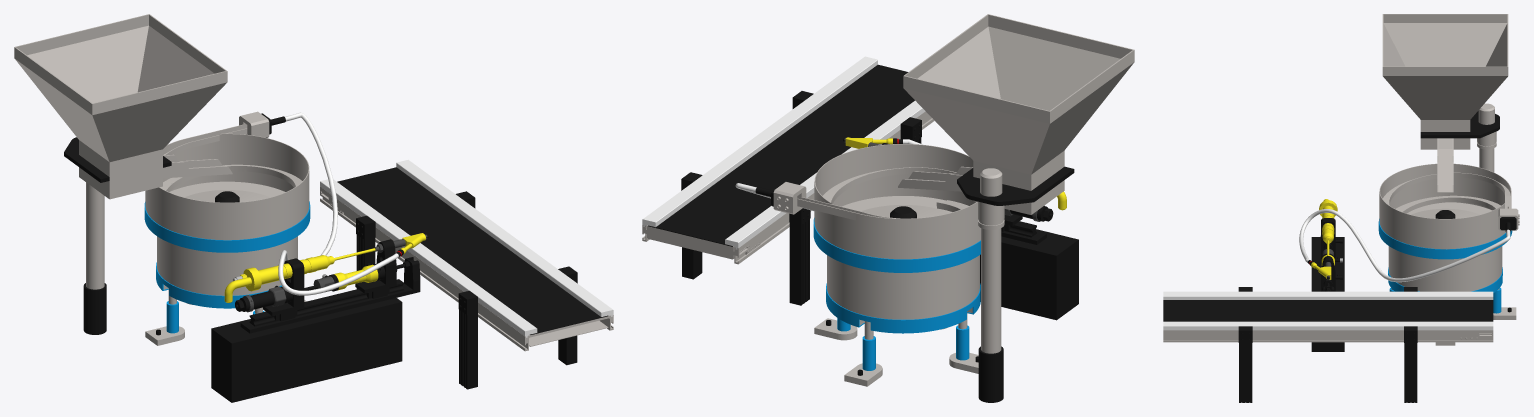
Rendered from Pin_Insertion_Station.glb.
3 views of the same model, side by side, from view 1: azimuth 30°, elevation 25°; view 2: azimuth 150°, elevation 25°; view 3: azimuth 270°, elevation 25° (orthographic). The views are drawn at different scales.
Parts seen in each view (by area): view 1: color-25[25], color, color-25[20], color-26[2], color-25[5], color-26[3], color-26[4], color-26[5], color-25, color-15, color-25[29], color-21 (+9 smaller); view 2: color-25[25], color-25[20], color-26[2], color-25[5], color, color-26[3], color-25[29], color-25, color-25[6], color-25[21], color-26[4], color-27 (+14 smaller); view 3: color-25[25], color-25[20], color-26[2], color-26[5], color-25[5], color-26[3], color-26[4], color, color-25[21], color-21, color-25, color-27[2] (+7 smaller).
Part boxes in pixels (x1,y1,x2,y2): color-25[25]: (14, 14, 232, 199); color: (211, 239, 420, 402); color-25[20]: (145, 133, 309, 240); color-26[2]: (337, 167, 607, 334); color-25[5]: (157, 236, 297, 295); color-26[3]: (396, 159, 613, 316); color-26[4]: (320, 179, 537, 337); color-26[5]: (337, 199, 613, 351); color-25: (144, 201, 310, 252); color-15: (224, 233, 425, 302); color-25[29]: (86, 182, 104, 289); color-21: (278, 112, 398, 295); color-25[25]: (898, 14, 1134, 214); color-25[20]: (814, 144, 980, 259); color-26[2]: (648, 64, 914, 246); color-25[5]: (827, 255, 979, 325); color: (882, 143, 1078, 320); color-26[3]: (642, 56, 877, 227); color-25[29]: (981, 228, 1001, 353); color-25: (813, 218, 980, 272); color-25[6]: (826, 283, 980, 333); color-25[21]: (797, 167, 968, 220); color-26[4]: (725, 100, 925, 249); color-27: (789, 208, 810, 305); color-25[25]: (1382, 14, 1508, 192); color-25[20]: (1379, 163, 1511, 249); color-26[2]: (1163, 300, 1493, 321); color-26[5]: (1163, 330, 1468, 342); color-25[5]: (1388, 246, 1502, 291); color-26[3]: (1163, 321, 1493, 330); color-26[4]: (1163, 291, 1493, 299); color: (1311, 218, 1344, 351); color-25[21]: (1382, 172, 1511, 213); color-21: (1299, 209, 1510, 282); color-25: (1378, 219, 1512, 259); color-27[2]: (1238, 326, 1252, 402).
Bounding box in the file's own units: 1.12 × 0.78 × 1.08.
